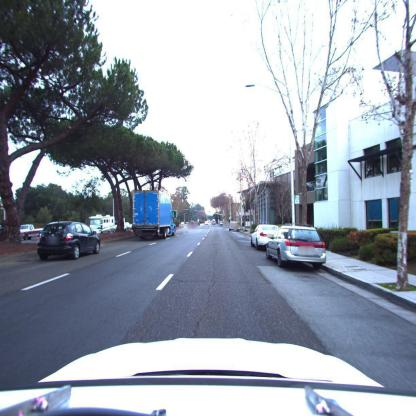car: (265, 225, 327, 270), (36, 222, 102, 262), (250, 226, 280, 250), (19, 225, 43, 243), (230, 222, 240, 231), (219, 220, 224, 227), (204, 220, 210, 225), (211, 220, 216, 225)
truck: (132, 192, 176, 239), (90, 215, 117, 235)
